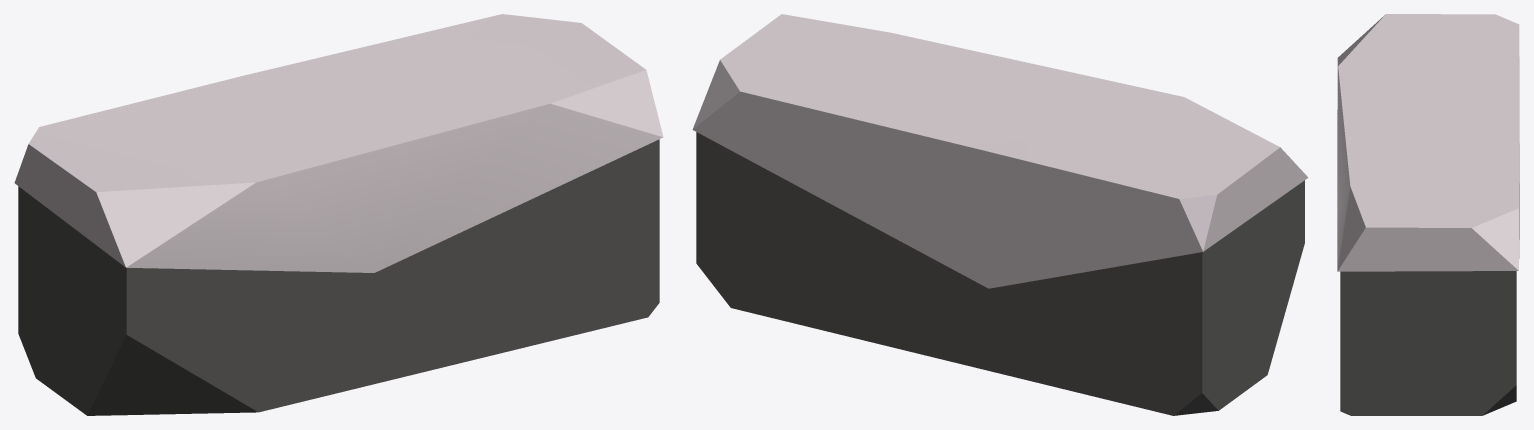
The model's file is Cube_Rock.fbx.
3 renders of one model, left to right at view 1: azimuth 30°, elevation 25°; view 2: azimuth 150°, elevation 25°; view 3: azimuth 270°, elevation 25°, orthographic. The views are drawn at different scales.
Visible parts, largest first — view 1: Cube_Rock_Snow; view 2: Cube_Rock_Snow; view 3: Cube_Rock_Snow.
Part boxes in pixels (x1,y1,x2,y2): Cube_Rock_Snow: (14,14,663,415); Cube_Rock_Snow: (692,14,1308,415); Cube_Rock_Snow: (1337,14,1519,415).
Size of the model in its own units: 203 by 83.71 by 73.06.
1 material, 1 textured.
